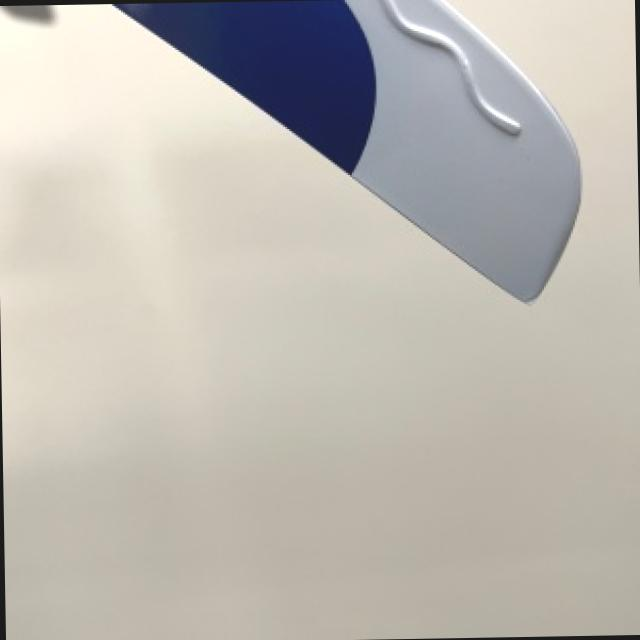healthy: (118, 0, 580, 297)
